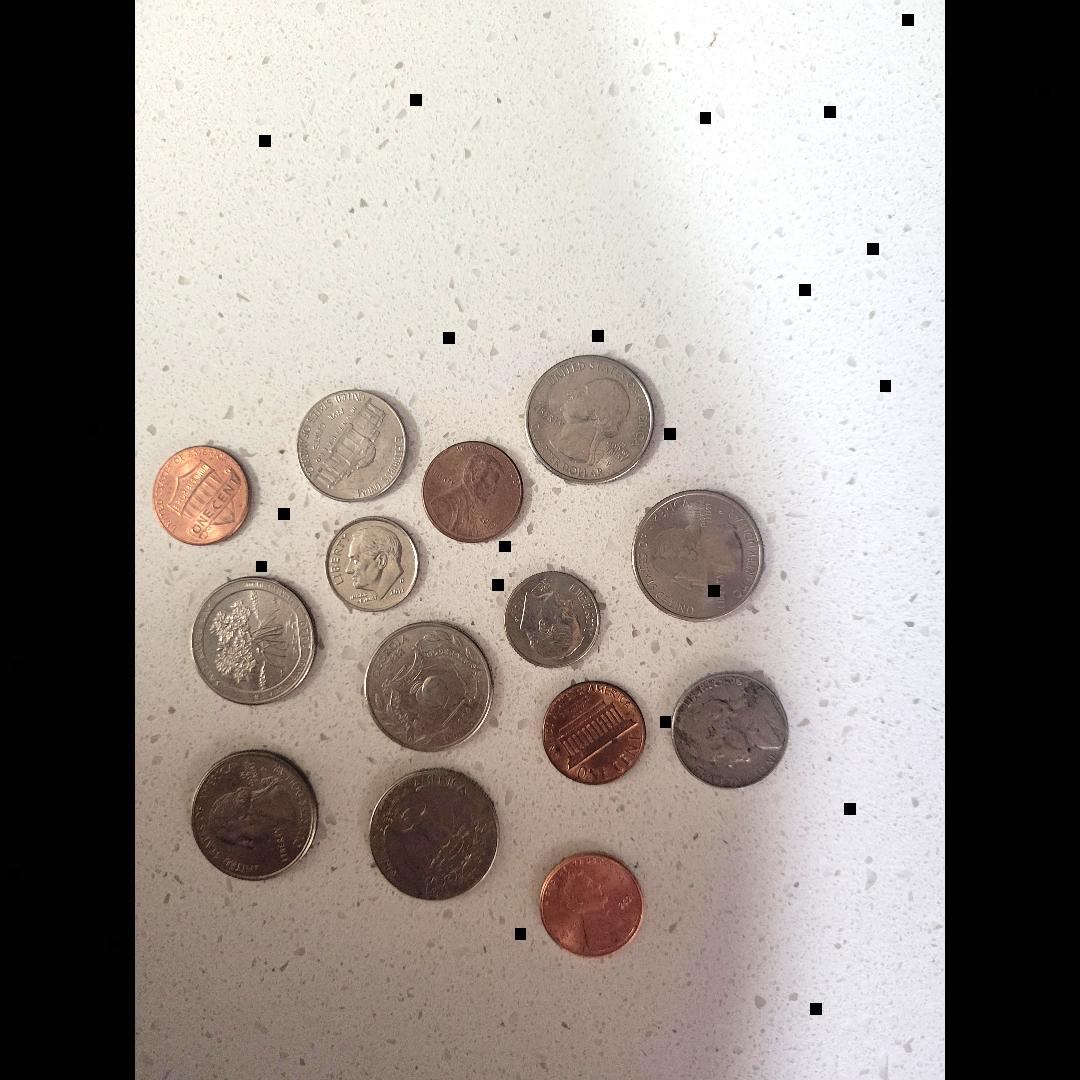Dime: (502, 564, 612, 670), (324, 513, 432, 615)
Nickel: (668, 664, 799, 790), (292, 382, 414, 502)
Penny: (144, 438, 262, 550), (542, 674, 654, 788), (538, 848, 648, 960), (422, 439, 528, 549)
Quarter: (630, 484, 776, 628), (358, 614, 500, 752), (190, 570, 326, 712), (369, 760, 504, 902), (526, 349, 660, 489), (190, 744, 320, 882)
